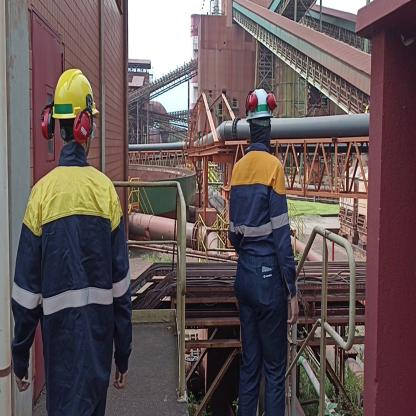Balaclava: (250, 119, 271, 150)
C_eletrica: (13, 166, 136, 409)
Capacete: (48, 68, 100, 119), (245, 85, 277, 120)
Operacional: (229, 152, 295, 286)
